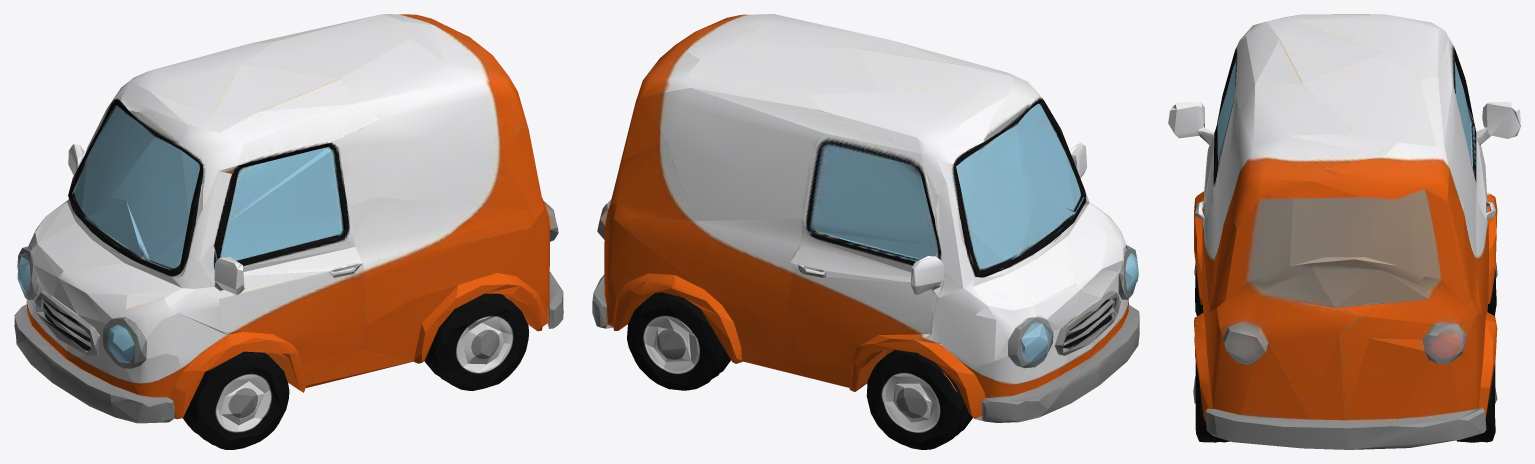
File: delivery_van.glb
The picture shows the model from 3 angles, left to right: view 1: azimuth 30°, elevation 25°; view 2: azimuth 150°, elevation 25°; view 3: azimuth 270°, elevation 25°; orthographic projection. The views are drawn at different scales.
Bounding box in the file's own units: 3.81 × 2.3 × 2.4.
Materials: 1 (1 with a texture image).
